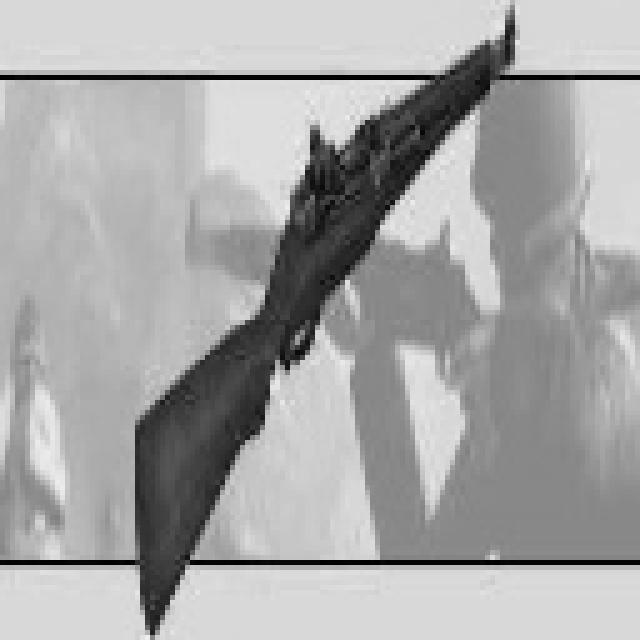Rifle: (111, 17, 537, 632), (362, 399, 414, 422)
